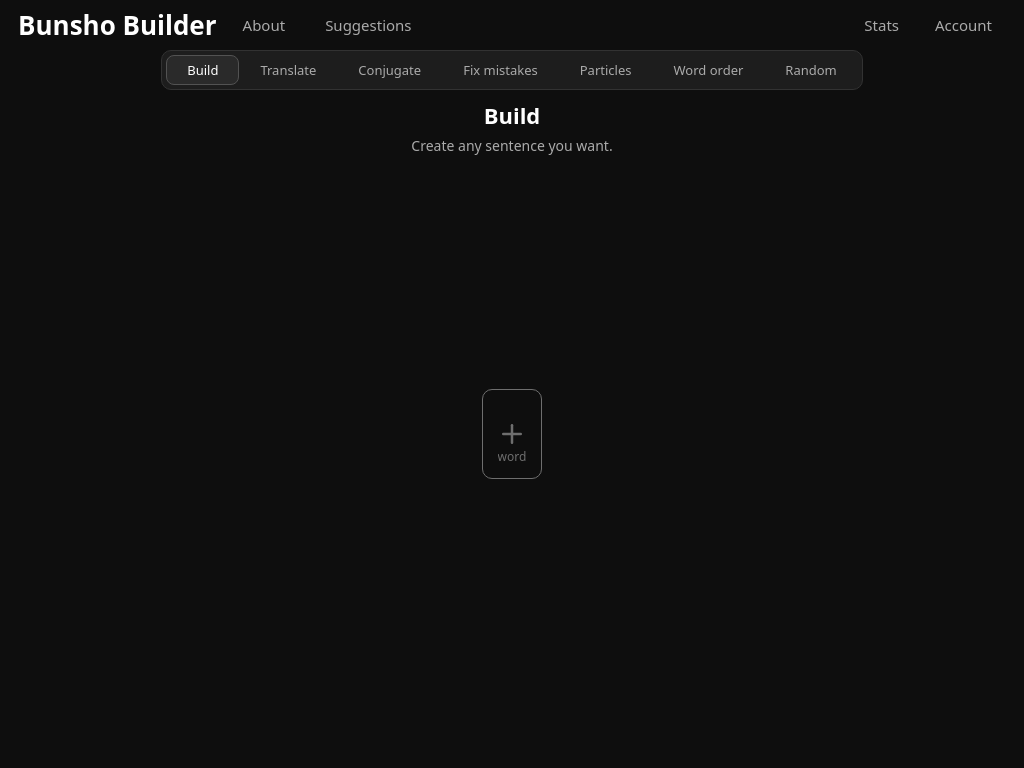
Test: clears stale login state when quota loading is rejected
Step 1. Click the tab "Translate" → click(288, 70), box [239, 55, 337, 85]
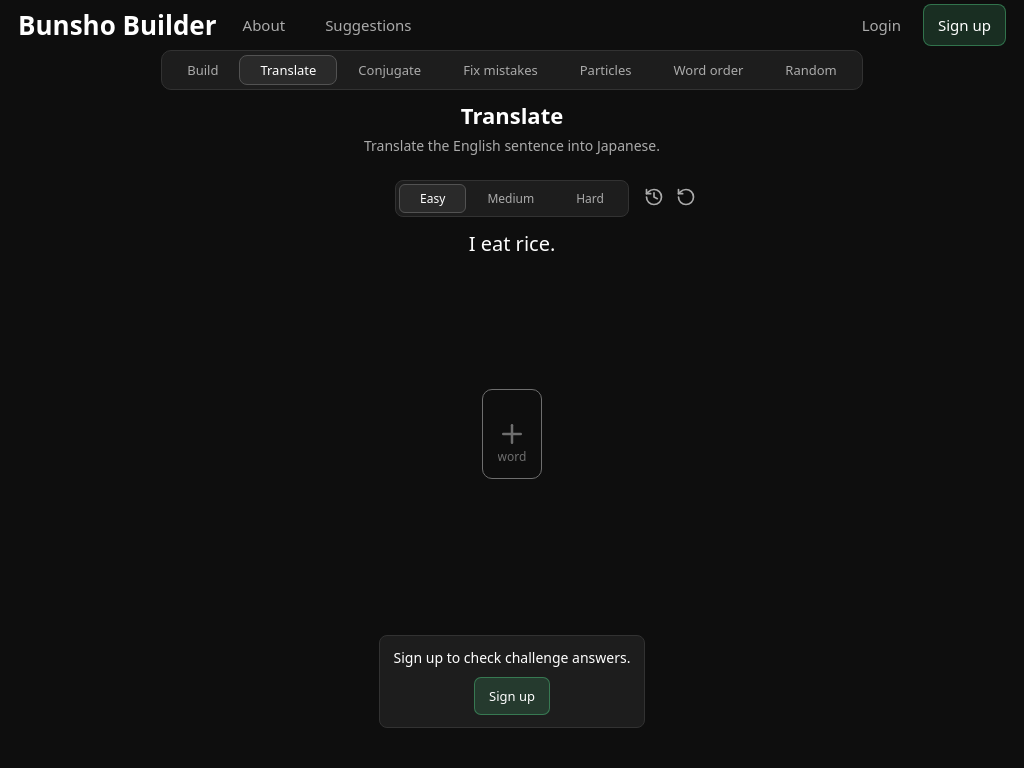
Now the text "I eat rice." is shown, box [469, 230, 555, 256]
Now the text "Sign up to check challenge answers." is shown, box [394, 648, 630, 667]
